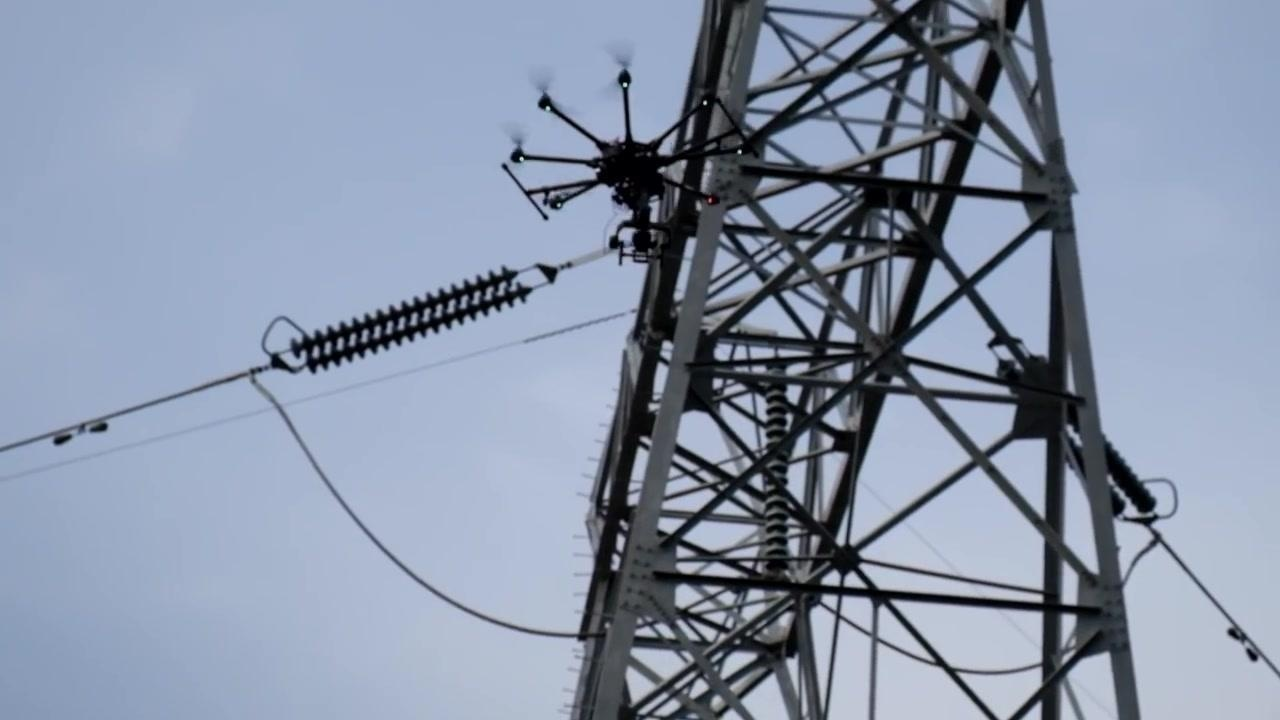UAV: (502, 47, 764, 266)
